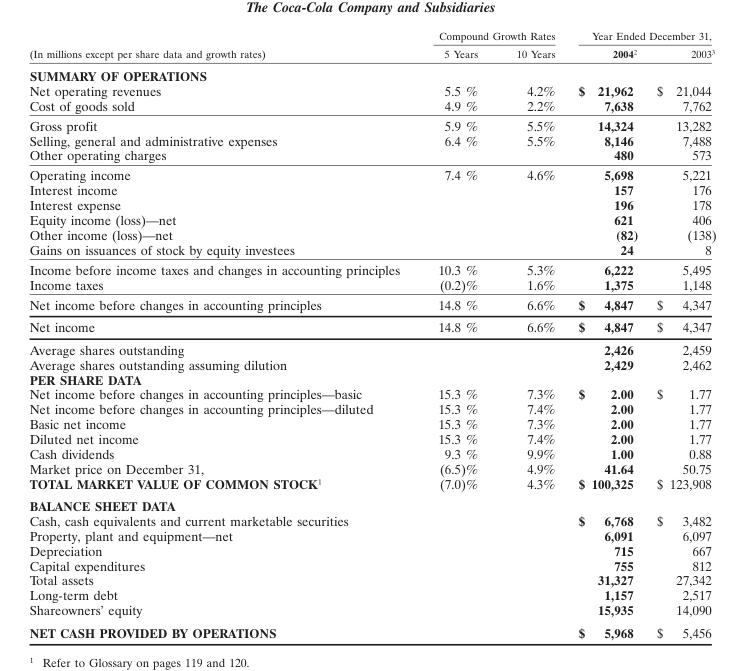table: (28, 29, 715, 640)
table column: (28, 29, 418, 640), (566, 29, 646, 640), (418, 29, 496, 640), (496, 29, 566, 640), (646, 29, 715, 640)
table column header: (28, 29, 715, 63)
table projected row header: (28, 63, 715, 82), (28, 494, 715, 512), (28, 371, 715, 386)
table row: (28, 315, 715, 337), (28, 294, 715, 315), (28, 620, 715, 640), (28, 44, 715, 63), (28, 63, 715, 82), (28, 337, 715, 356), (28, 475, 715, 494), (28, 97, 715, 115), (28, 164, 715, 182), (28, 241, 715, 259), (28, 276, 715, 294), (28, 494, 715, 512), (28, 602, 715, 620), (28, 115, 715, 132), (28, 147, 715, 164), (28, 259, 715, 276), (28, 29, 715, 44), (28, 82, 715, 97), (28, 132, 715, 147), (28, 182, 715, 197), (28, 197, 715, 212), (28, 226, 715, 241), (28, 356, 715, 371), (28, 371, 715, 386), (28, 386, 715, 401), (28, 401, 715, 416), (28, 430, 715, 445), (28, 445, 715, 460), (28, 460, 715, 475), (28, 512, 715, 527), (28, 527, 715, 542), (28, 542, 715, 557), (28, 557, 715, 572), (28, 572, 715, 587), (28, 587, 715, 602), (28, 212, 715, 226), (28, 416, 715, 430)
table spanning cell: (28, 29, 418, 63), (566, 29, 715, 44), (418, 29, 566, 44)
